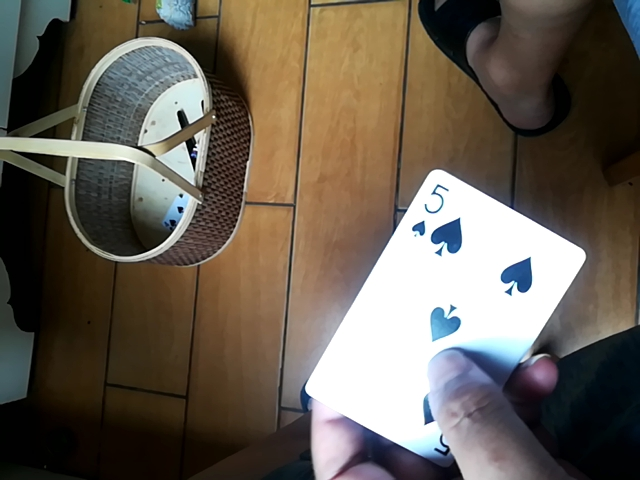ht 5: (289, 163, 585, 467)
